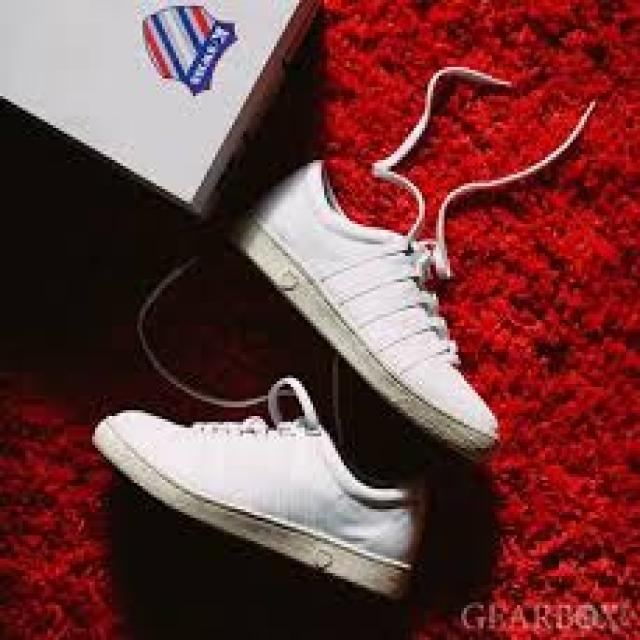shoe: (234, 148, 531, 458), (80, 372, 440, 602)
